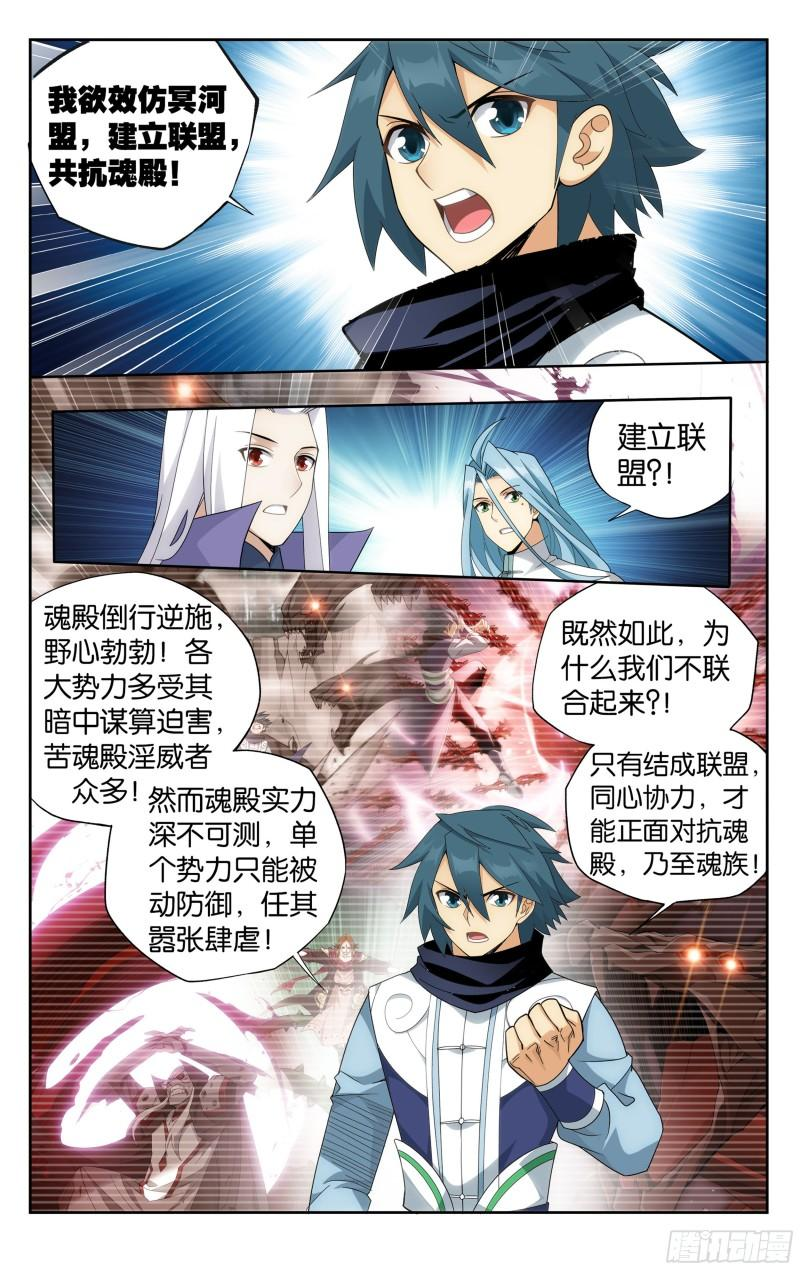boxEllipse: (21, 32, 270, 257), (96, 787, 348, 988), (24, 571, 228, 802), (528, 571, 771, 739), (558, 739, 774, 913), (585, 395, 735, 523)
minBox: (22, 353, 775, 1219), (21, 32, 777, 383), (45, 386, 740, 590)
